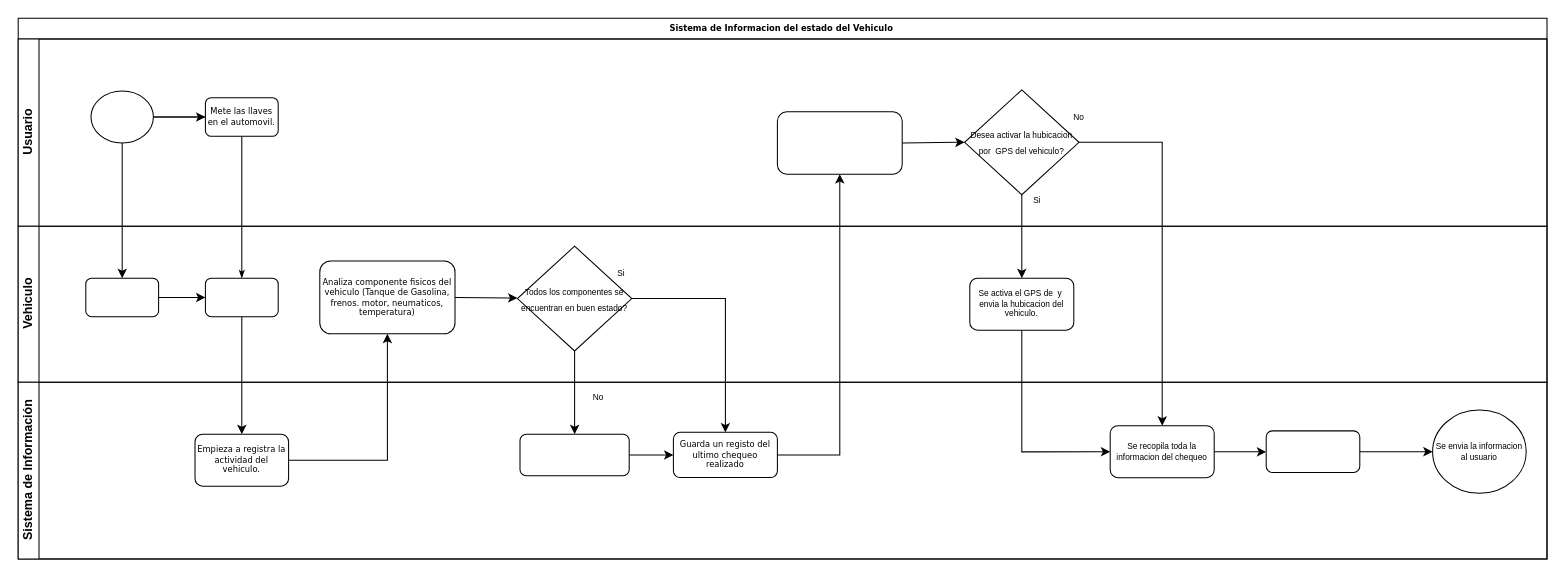
Image size: 1565x577. Some labels were removed from this diagram. The centre of each missing label's shape, as x and y in pixels:
"Entra en modo chequeo" belongs at pixel 122 297.
"Peticion de chequeo" belongs at pixel 121 116.
"Se apaga el vehiculo." belongs at pixel 1312 451.
"Se enciende el vehiculo" belongs at pixel 241 297.
"Se muestra un símbolo para el estado de cada componente" belongs at pixel 839 142.
"Se registra la fallla del componente." belongs at pixel 574 454.
